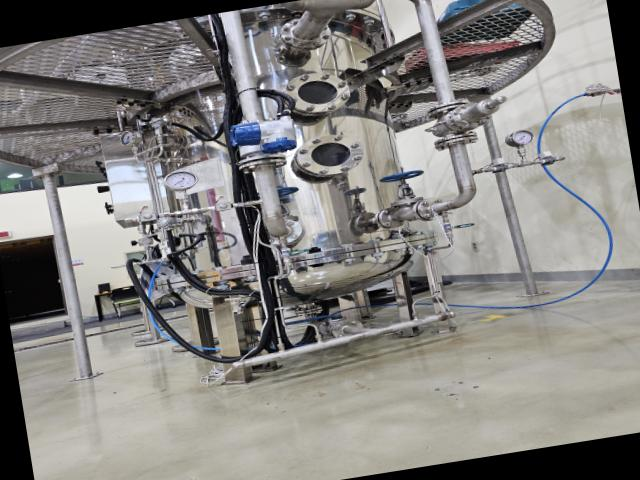Flange: (291, 130, 367, 183), (280, 67, 354, 121)
Flush Ring: (277, 13, 335, 54), (259, 215, 306, 248), (233, 152, 290, 174), (330, 315, 368, 343), (426, 98, 474, 118), (374, 204, 409, 231), (412, 196, 446, 222), (432, 132, 480, 150)
GasRegulator: (116, 115, 198, 176)
Nuts: (134, 208, 164, 227), (535, 151, 563, 169), (212, 198, 235, 214), (488, 162, 514, 176)
Piston Valve: (375, 167, 433, 207), (275, 182, 303, 218)
Pressure Gage: (163, 168, 204, 212), (506, 128, 536, 166)
